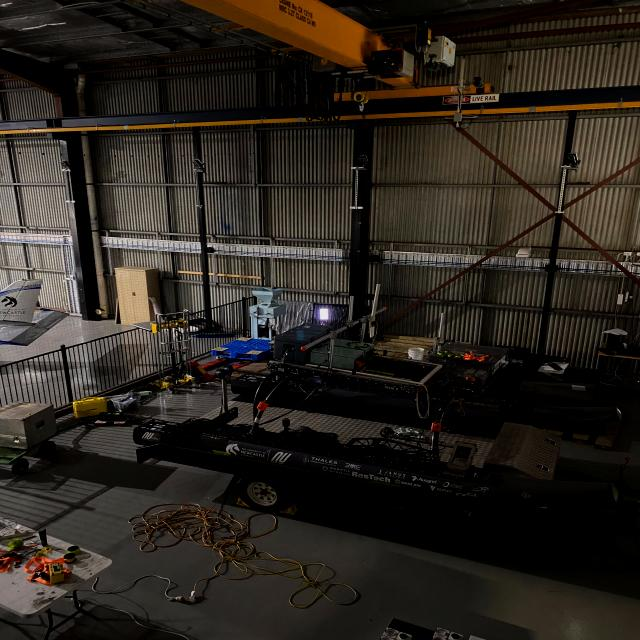matrix: (319, 308, 330, 320)
